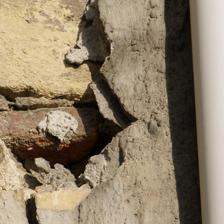Crack: (68, 4, 128, 112), (48, 38, 95, 101), (55, 103, 126, 135)
